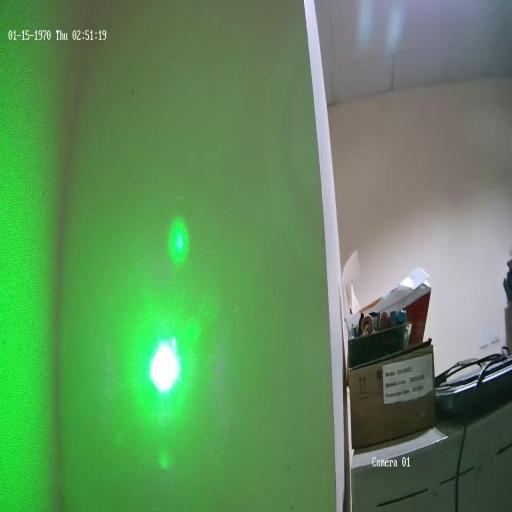laser: (138, 318, 186, 410)
